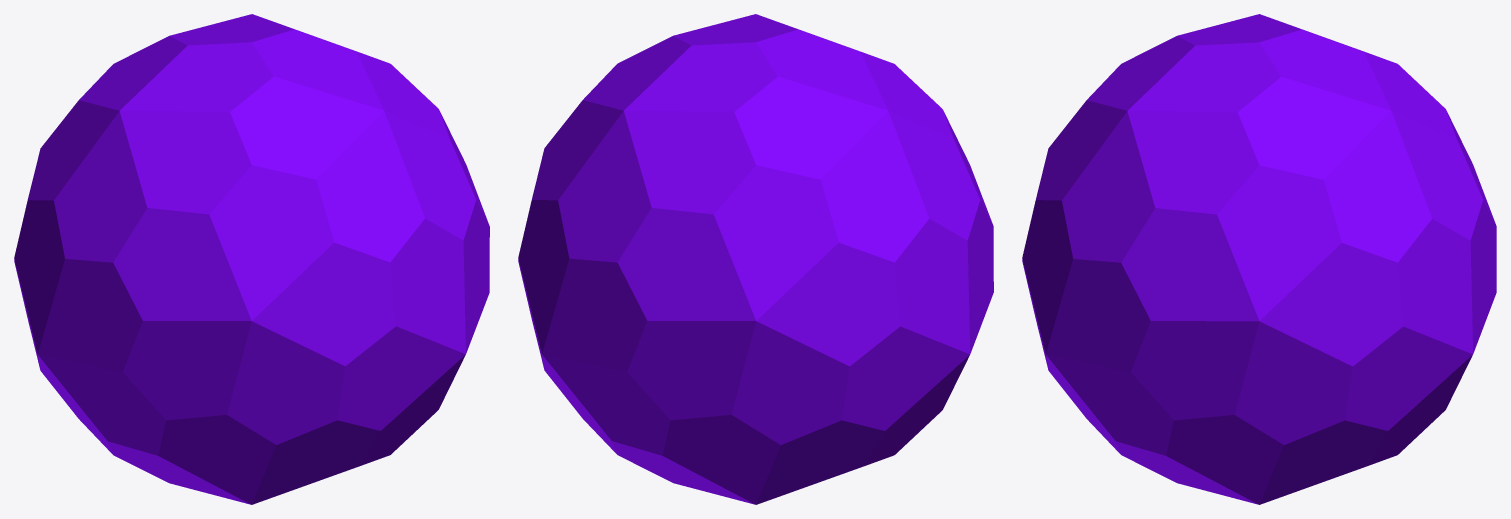
3 views of the same model, side by side, from view 1: azimuth 30°, elevation 25°; view 2: azimuth 150°, elevation 25°; view 3: azimuth 270°, elevation 25° (orthographic).
Parts seen in each view (by area): view 1: PentagonalHexecontahedron; view 2: PentagonalHexecontahedron; view 3: PentagonalHexecontahedron.
Part boxes in pixels (x1,y1,x2,y2): PentagonalHexecontahedron: [14, 14, 489, 504]; PentagonalHexecontahedron: [518, 14, 993, 504]; PentagonalHexecontahedron: [1022, 14, 1496, 504].
Size of the model in its own units: 0.75 by 0.7264 by 0.7195.
